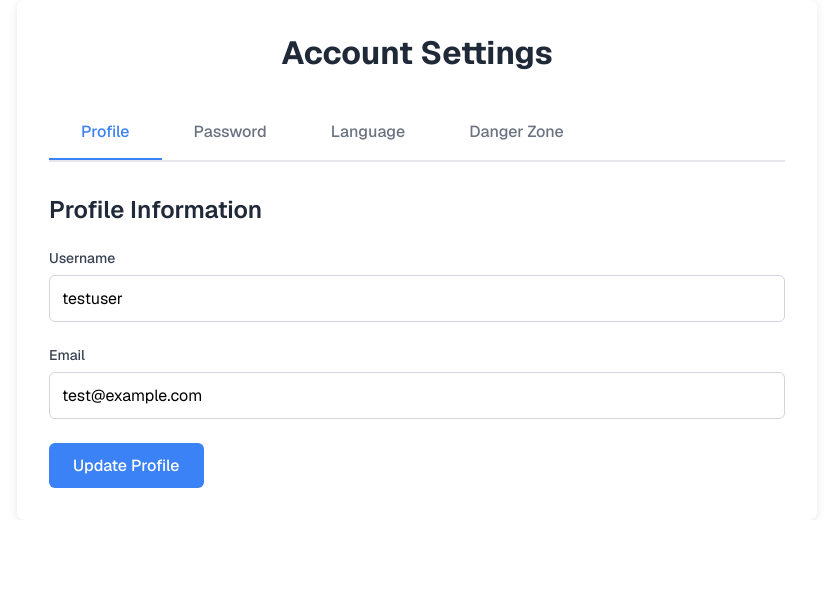
Test case: AccountSettings › shows error when profile update fails
Replace the text in the field showing "testuser" with "existinguser" at [417, 298], box 49,275 -> 785,322
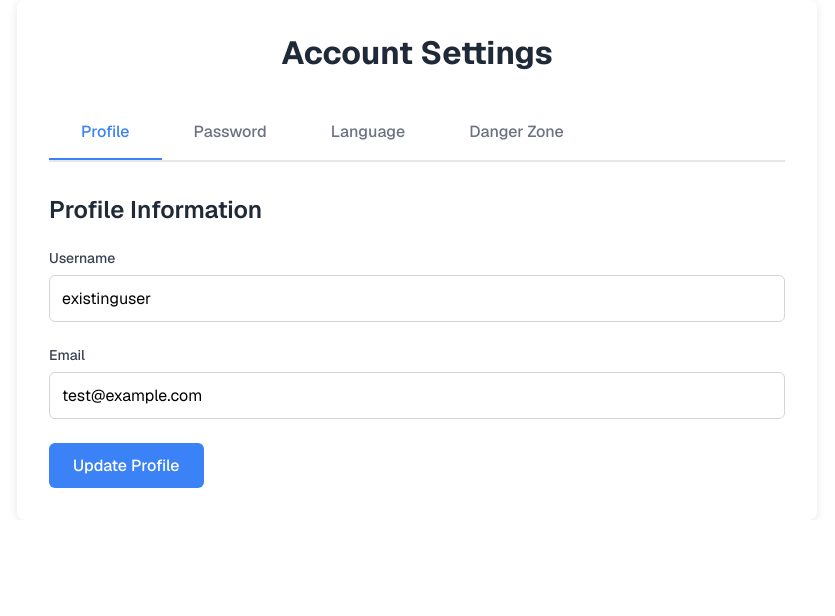
Click the button "Update Profile".
click(126, 466)  # box 49,443 -> 204,488
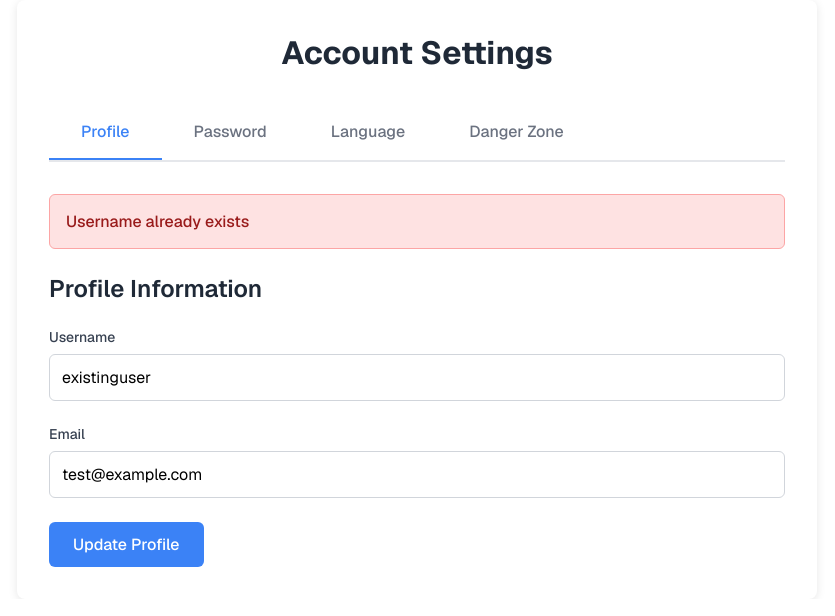
Now the text "Username already exists" is shown, box 49,194 -> 785,249
